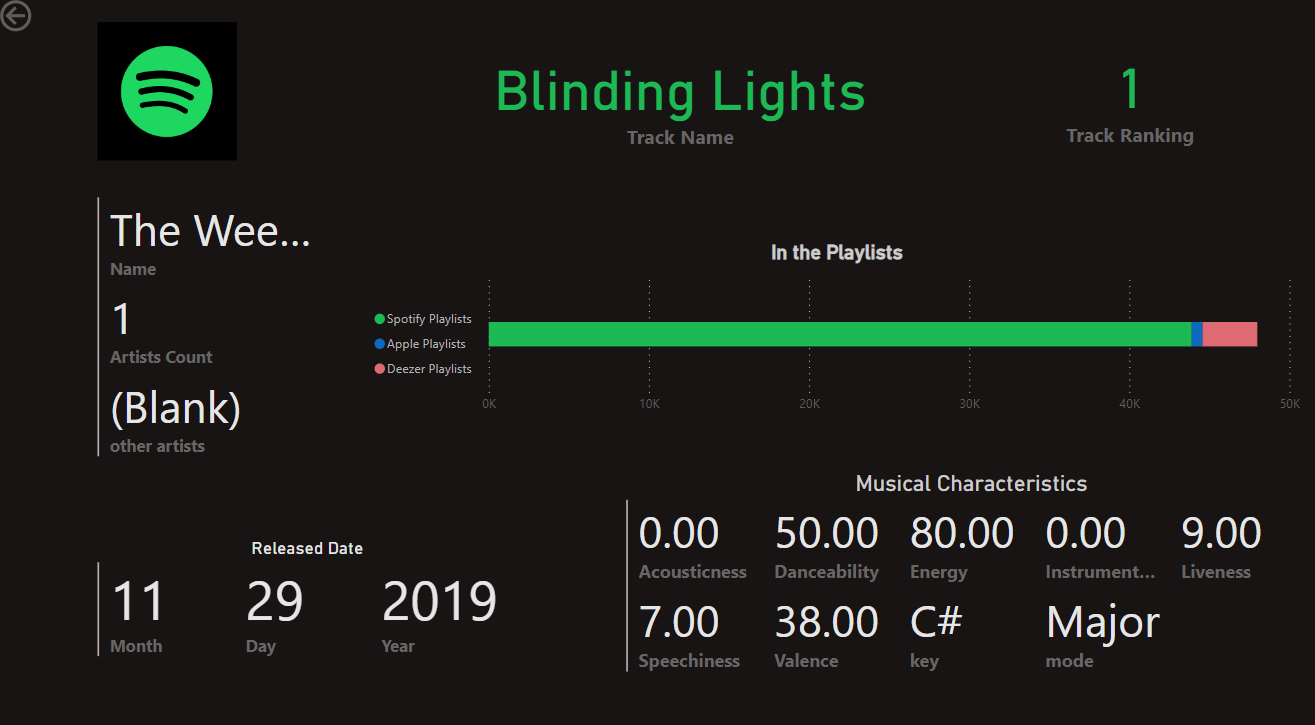

The dashboard page shown, as its layout file describes it:
{"tool":"powerbi","page":{"name":"Track Information","canvas":[1280,720],"ordinal":3},"visuals":[{"type":"image","box":[94.6,20.6,144,145.3],"z":0},{"type":"multiRowCard","title":"Musical Characteristics","fields":{"Values":["Avg(spotify-2023.acousticness_%)","Avg(spotify-2023.danceability_%)","Avg(spotify-2023.energy_%)","Avg(spotify-2023.instrumentalness_%)","Avg(spotify-2023.liveness_%)","Avg(spotify-2023.speechiness_%)","Avg(spotify-2023.valence_%)","spotify-2023.key","spotify-2023.mode"]},"box":[604.6,457.9,675.9,227.6],"z":1000},{"type":"actionButton","box":[0,0,100,40],"z":2000},{"type":"barChart","title":"In the Playlists","fields":{"Y":["Sum(spotify-2023.in_spotify_playlists)","Sum(spotify-2023.in_apple_playlists)","Sum(spotify-2023.in_deezer_playlists)"]},"box":[360.6,237.2,903.5,175.5],"z":3000},{"type":"multiRowCard","title":"Released Date","fields":{"Values":["Sum(spotify-2023.released_month)","Sum(spotify-2023.released_day)","Sum(spotify-2023.released_year)"]},"box":[94.1,523.4,414.9,139.9],"z":4000},{"type":"card","fields":{"Values":["Min(spotify-2023.track_name)"]},"box":[323.2,22.9,676.6,148.3],"z":5000},{"type":"card","fields":{"Values":["Sum(spotify-2023.Track Ranking)"]},"box":[964.8,20.5,261.7,150.8],"z":6000},{"type":"multiRowCard","fields":{"Values":["spotify-2023.artist(s)_name","Sum(spotify-2023.artist_count)","spotify-2023.other artist"]},"box":[94.6,190.6,229,294.8],"z":7000}]}

Visuals, with their boxes in screenshot pixels (x1, y1, x2, y2), scaled from the page's 1280x720 canvas onto the 1315x725 screenshot:
image: box=[97, 21, 245, 167]
"Musical Characteristics" multiRowCard: box=[621, 461, 1314, 690]
actionButton: box=[0, 0, 103, 40]
"In the Playlists" barChart: box=[370, 239, 1299, 416]
"Released Date" multiRowCard: box=[97, 527, 523, 668]
card - Min(spotify-2023.track_name): box=[332, 23, 1027, 172]
card - Sum(spotify-2023.Track Ranking): box=[991, 21, 1260, 172]
multiRowCard - spotify-2023.artist(s)_name x Sum(spotify-2023.artist_count): box=[97, 192, 332, 489]
